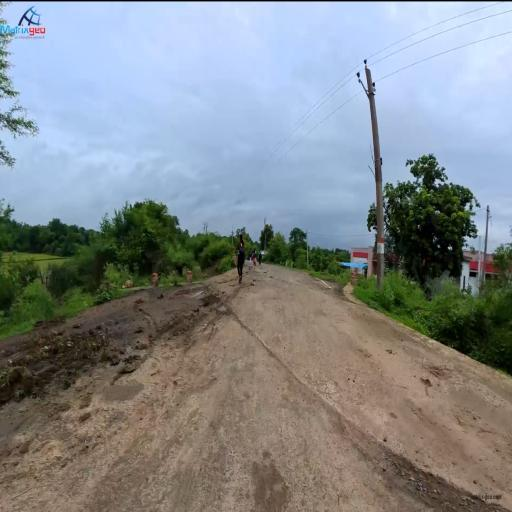longitudinal_crack: (229, 325, 365, 437)
